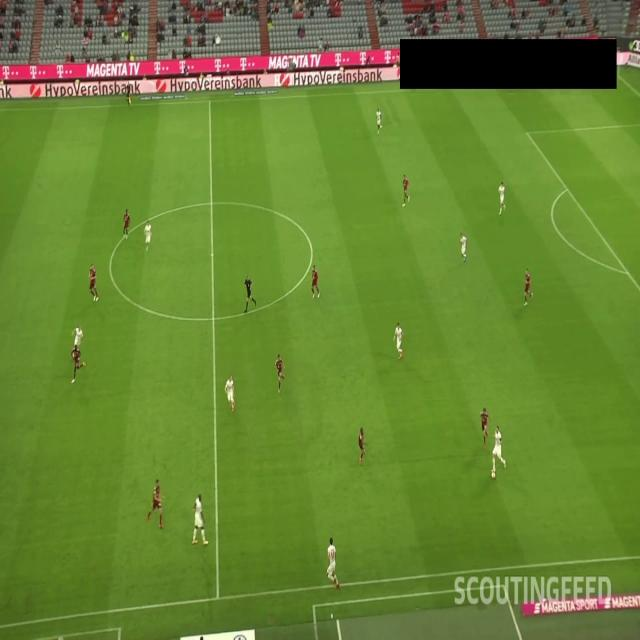ball: (490, 467, 497, 484)
player: (324, 536, 341, 586), (149, 474, 164, 529), (195, 492, 207, 547), (492, 424, 504, 478), (86, 264, 100, 307), (273, 353, 286, 395), (225, 374, 238, 415), (73, 345, 85, 383), (356, 425, 366, 465), (394, 319, 404, 358), (522, 267, 533, 302), (480, 407, 489, 448), (312, 262, 322, 297), (498, 184, 508, 218), (73, 324, 83, 357), (144, 217, 152, 252), (402, 174, 410, 207), (123, 205, 130, 242), (375, 107, 383, 138), (461, 231, 467, 262)
